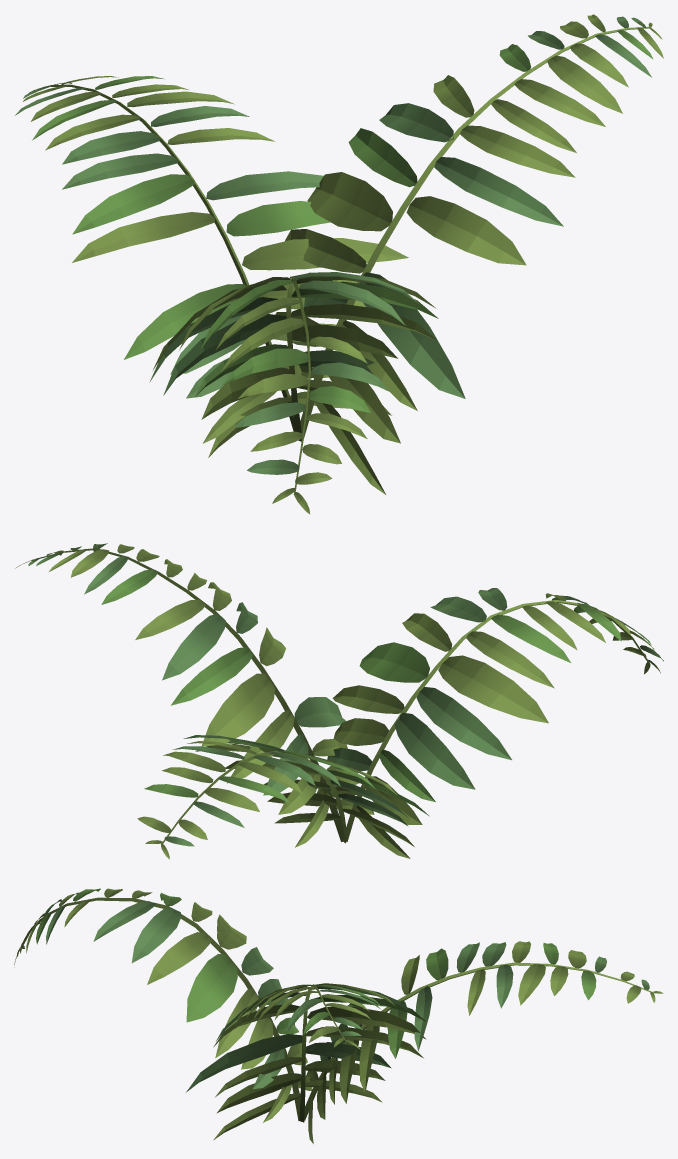
The model's file is Jungle_Fern_A.fbx.
3 renders of one model, top to bottom at view 1: azimuth 30°, elevation 25°; view 2: azimuth 150°, elevation 25°; view 3: azimuth 270°, elevation 25°, orthographic. The views are drawn at different scales.
Visible parts, largest first — view 1: Jungle_Fern_A; view 2: Jungle_Fern_A; view 3: Jungle_Fern_A.
Part boxes in pixels (<box>): Jungle_Fern_A: <box>15,14,663,514</box>; Jungle_Fern_A: <box>15,543,663,859</box>; Jungle_Fern_A: <box>14,888,663,1143</box>.
Size of the model in its own units: 2.55 by 1.3 by 3.18.
